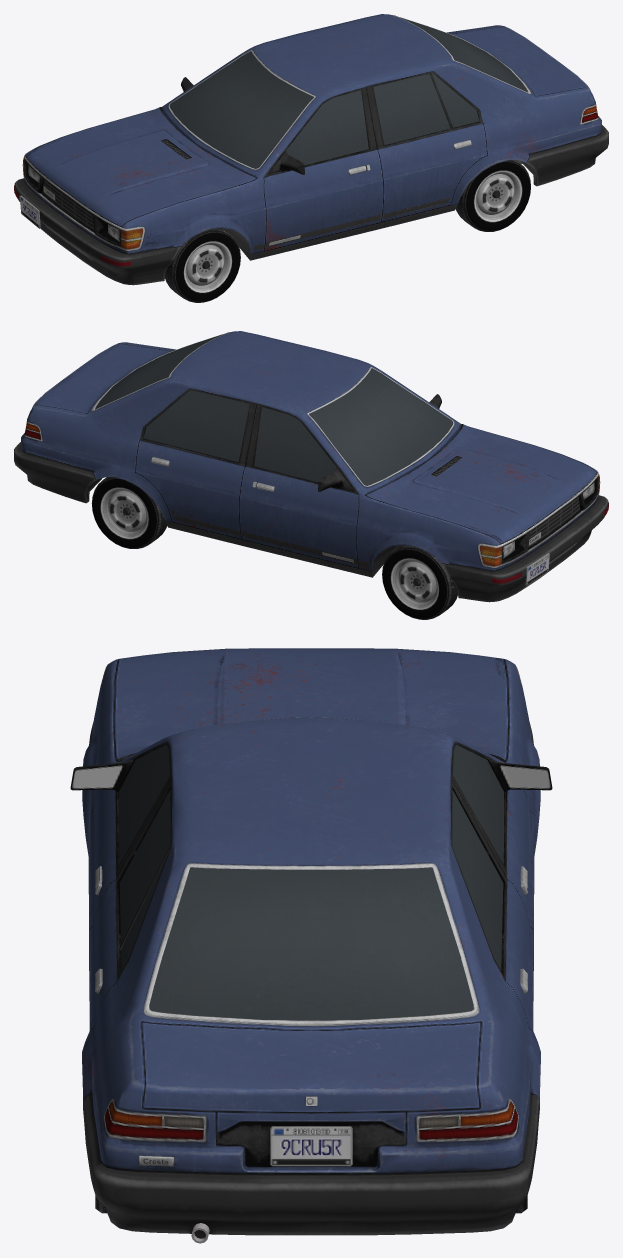
File: HH_Car_Sedan.fbx
The picture shows the model from 3 angles, top to bottom: view 1: azimuth 30°, elevation 25°; view 2: azimuth 150°, elevation 25°; view 3: azimuth 270°, elevation 25°; orthographic projection. The views are drawn at different scales.
Visible parts, largest first — view 1: HH_Car_Sedan_LOD0, HH_Car_Sedan_Wheel_01_LOD0, HH_Car_Sedan_Wheel_02_LOD0; view 2: HH_Car_Sedan_LOD0, HH_Car_Sedan_Wheel_01_LOD0.001, HH_Car_Sedan_Wheel_03_LOD0; view 3: HH_Car_Sedan_LOD0.
Boxes of the visible parts, x1=… form: HH_Car_Sedan_LOD0: x1=14, y1=14, x2=608, y2=285; HH_Car_Sedan_Wheel_01_LOD0: x1=165, y1=228, x2=240, y2=302; HH_Car_Sedan_Wheel_02_LOD0: x1=456, y1=160, x2=530, y2=231; HH_Car_Sedan_LOD0: x1=14, y1=331, x2=608, y2=602; HH_Car_Sedan_Wheel_01_LOD0.001: x1=382, y1=545, x2=457, y2=619; HH_Car_Sedan_Wheel_03_LOD0: x1=91, y1=477, x2=166, y2=548; HH_Car_Sedan_LOD0: x1=70, y1=648, x2=552, y2=1243.
Size of what is drawn, in the model's own units: 430 by 133 by 176.
